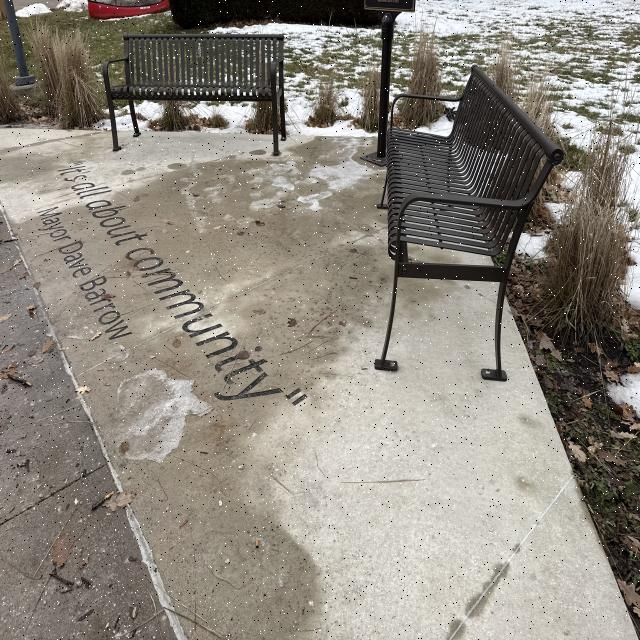Bench: (377, 54, 563, 390), (99, 12, 300, 154)
